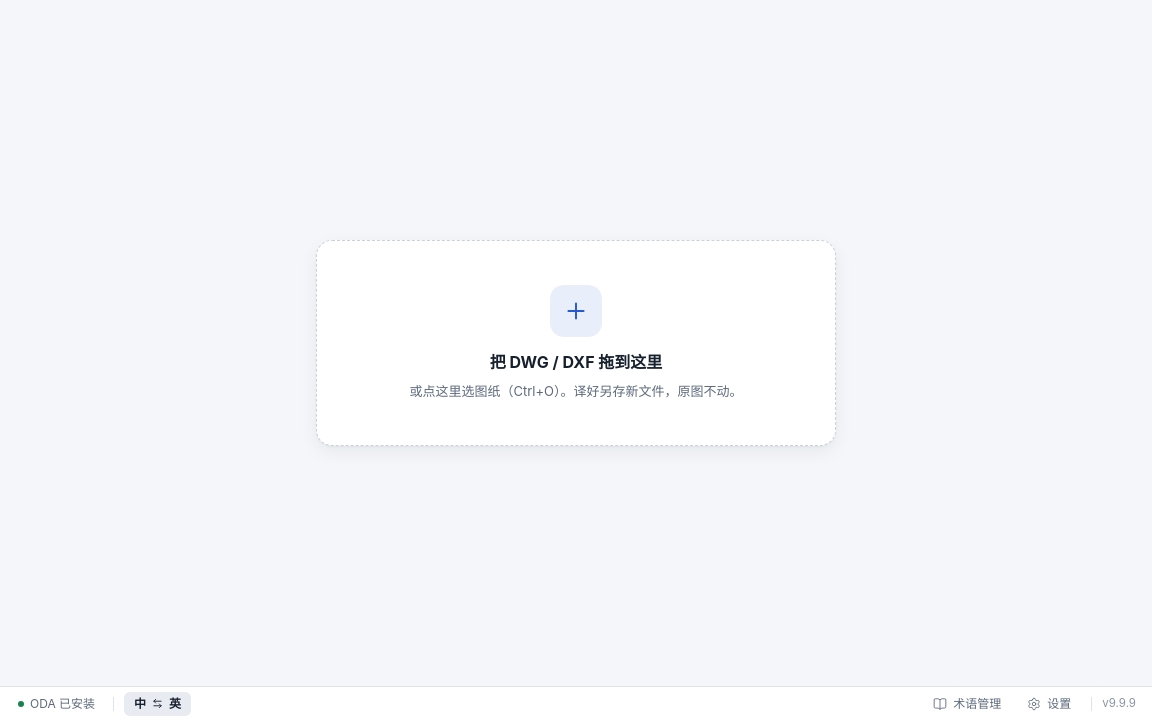
Test: settings › tries one sentence with the current engine
Step 1. Click the button "设置" → click(1049, 704), box [1017,690,1081,716]
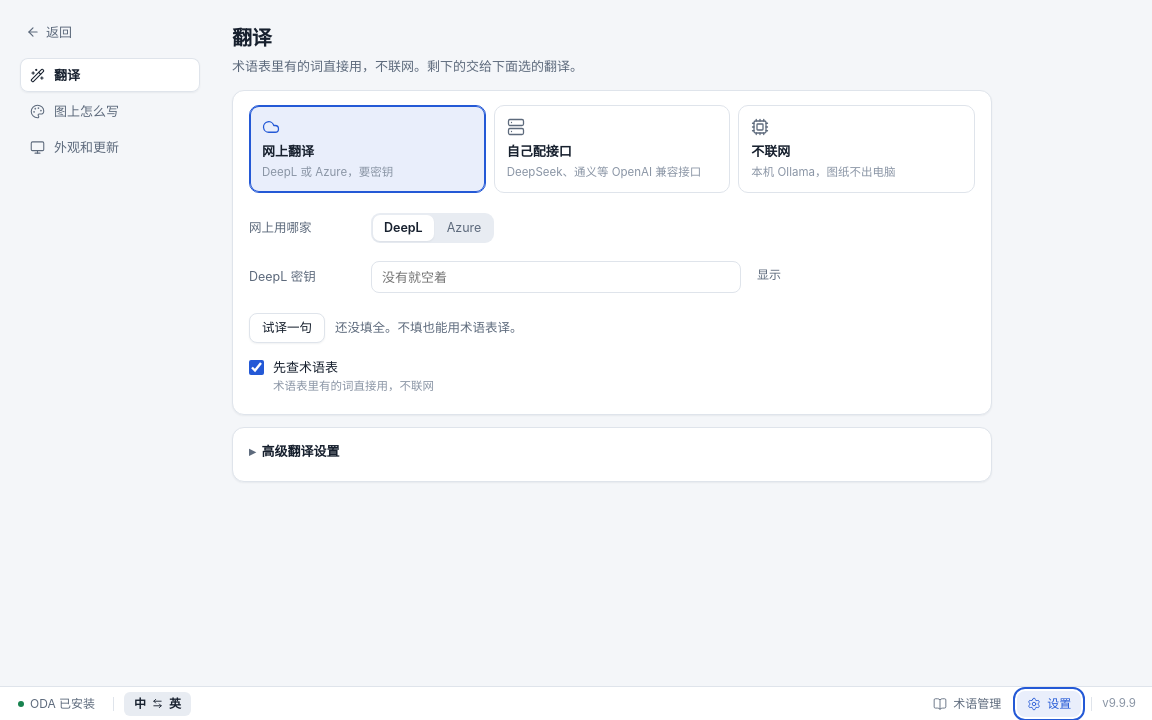
Step 2. Click the button "试译一句" → click(287, 328), box [249,313,325,343]
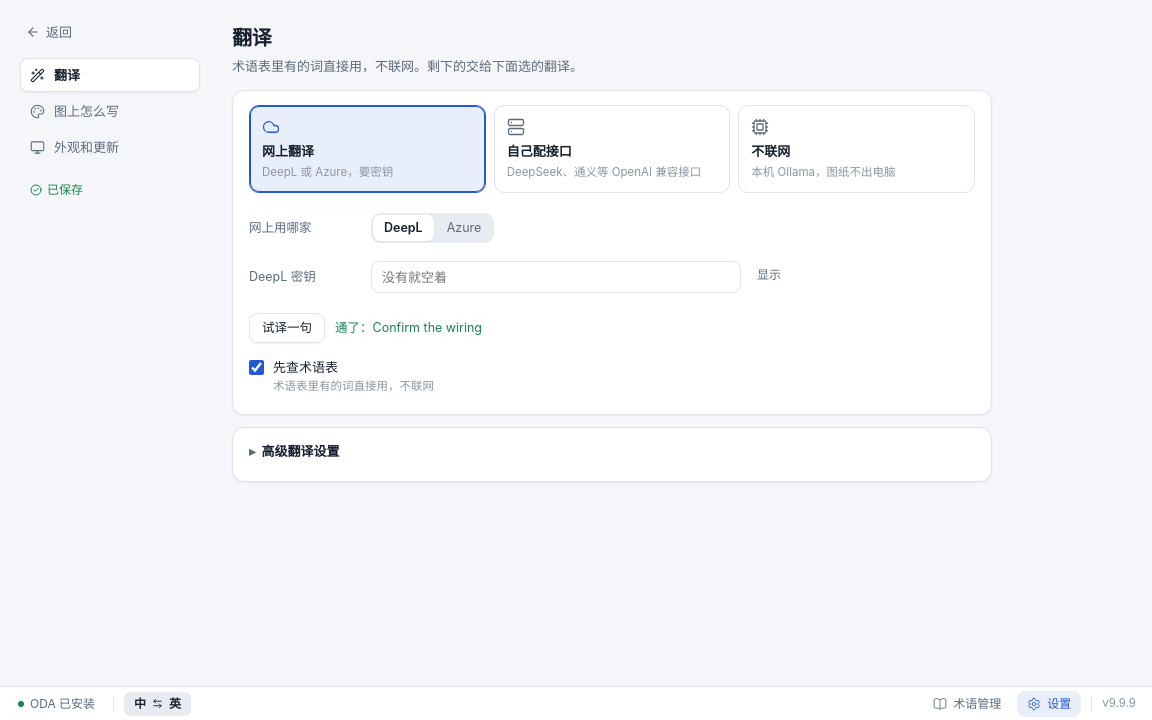
expect the text "通了：Confirm the wiring" is shown: met, box [335,319,482,337]
